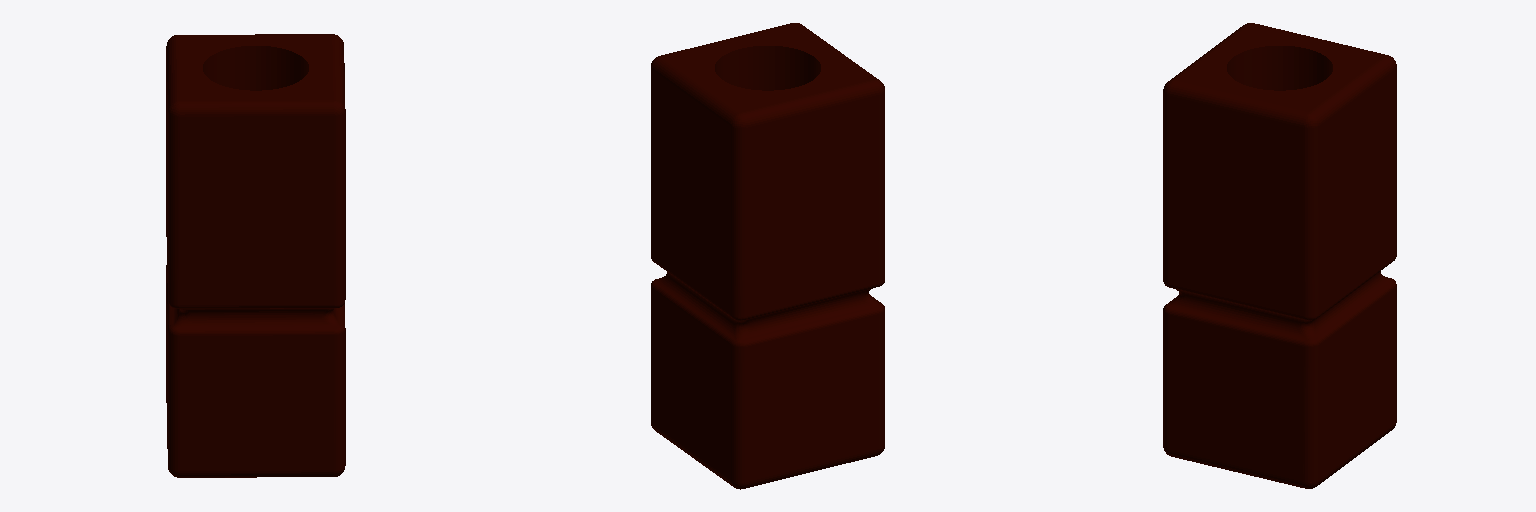
File: grand-carre-trou-marron.obj
The picture shows the model from 3 angles: view 1: azimuth 30°, elevation 25°; view 2: azimuth 150°, elevation 25°; view 3: azimuth 270°, elevation 25°; orthographic projection.
Visible parts, largest first — view 1: quarto-pieces.002; view 2: quarto-pieces.002; view 3: quarto-pieces.002.
Boxes of the visible parts, box(x1,y1,x2,y2) form: quarto-pieces.002: box(166, 34, 345, 477); quarto-pieces.002: box(651, 23, 884, 489); quarto-pieces.002: box(1163, 23, 1396, 488).
Size of the model in its own units: 39.43 by 70 by 39.43.